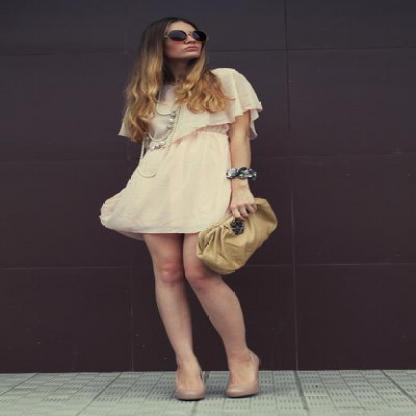bag: (196, 198, 276, 269)
dress: (100, 68, 261, 241)
shoe: (177, 361, 256, 398)
